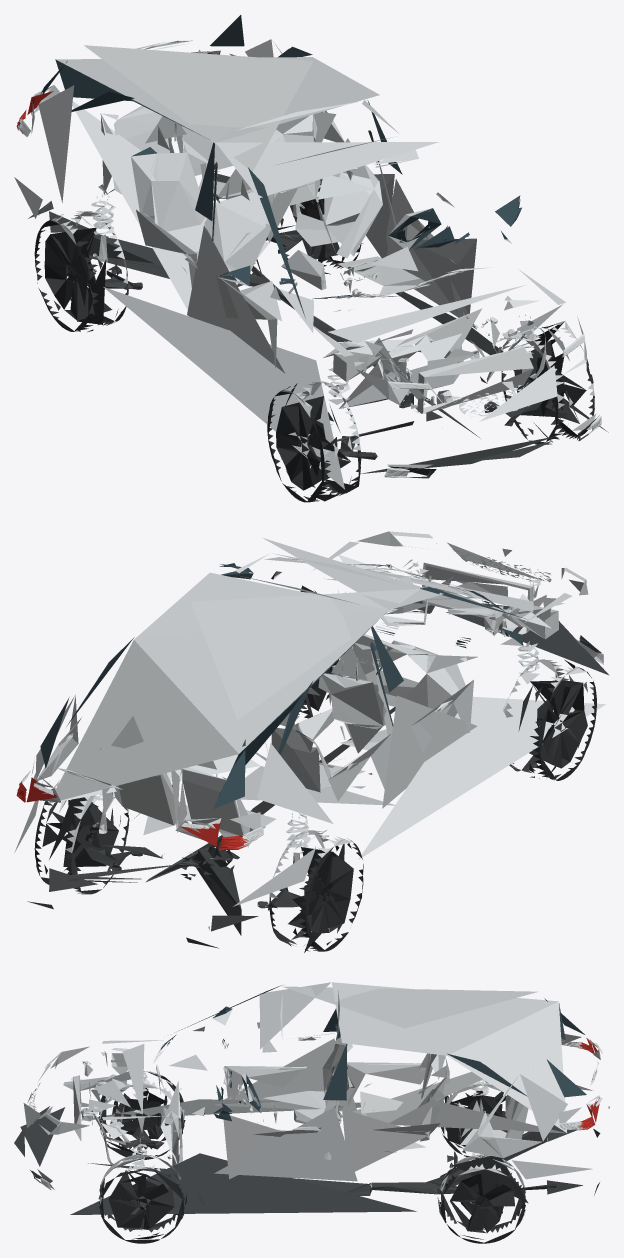
Rendered from acura-mdx.glb.
3 views of the same model, one above another, from view 1: azimuth 30°, elevation 25°; view 2: azimuth 150°, elevation 25°; view 3: azimuth 270°, elevation 25° (orthographic). The views are drawn at different scales.
Parts seen in each view (by area): view 1: acura; view 2: acura; view 3: acura.
Part boxes in pixels (<box>): acura: <box>14,15,608,502</box>; acura: <box>14,531,609,952</box>; acura: <box>14,982,609,1243</box>.
Bounding box in the file's own units: 2.15 × 1.77 × 4.96.
